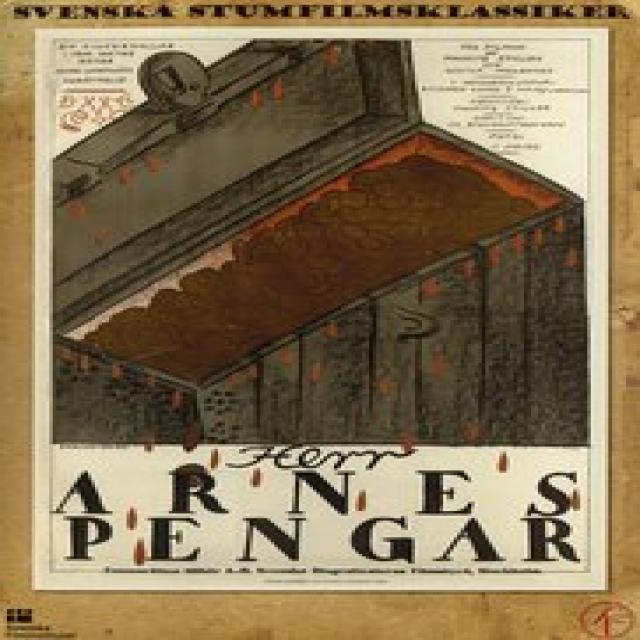movie-judul: (51, 459, 590, 568)
picture: (52, 41, 584, 447)
